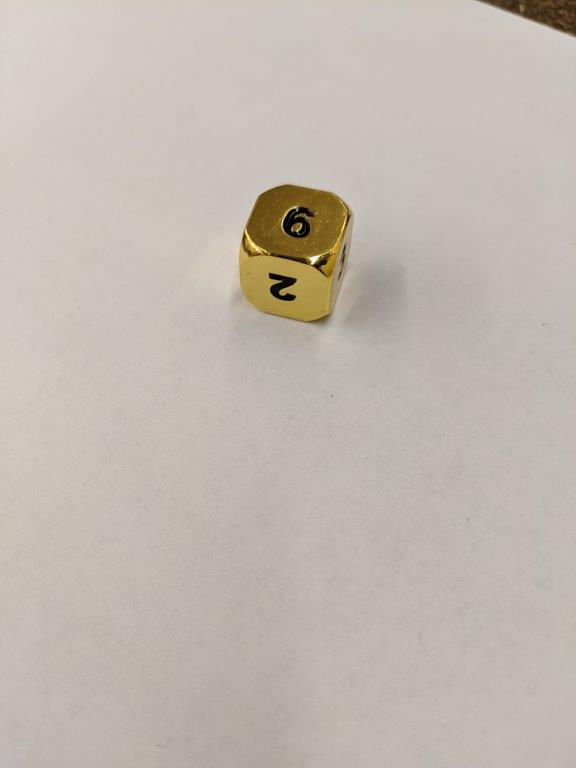d6-6: (236, 183, 353, 321)
